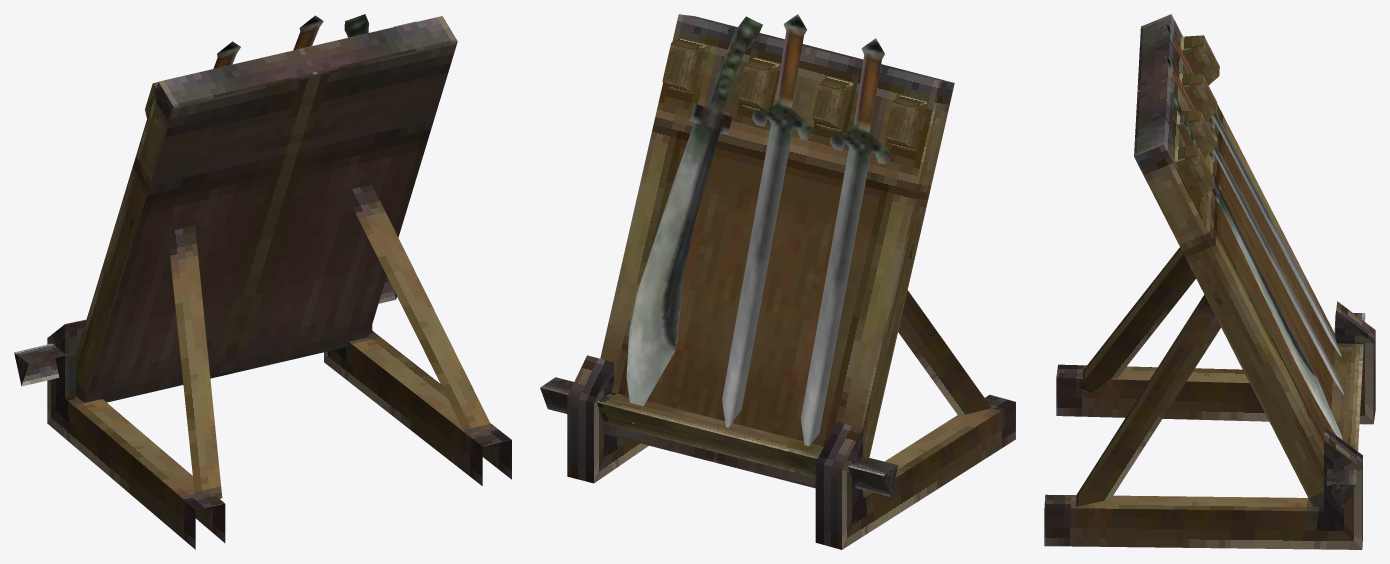
The model's file is h5_bingqi_b.FBX.
3 renders of one model, left to right at view 1: azimuth 30°, elevation 25°; view 2: azimuth 150°, elevation 25°; view 3: azimuth 270°, elevation 25°, orthographic. The views are drawn at different scales.
Visible parts, largest first — view 1: h5_bingqi_b; view 2: h5_bingqi_b; view 3: h5_bingqi_b.
Part boxes in pixels (x1=…): h5_bingqi_b: x1=14, y1=14, x2=511, y2=549; h5_bingqi_b: x1=540, y1=14, x2=1015, y2=549; h5_bingqi_b: x1=1044, y1=14, x2=1375, y2=549.
Size of the model in its own units: 1.82 by 2.11 by 1.48.
Materials: 2 (2 with a texture image).
